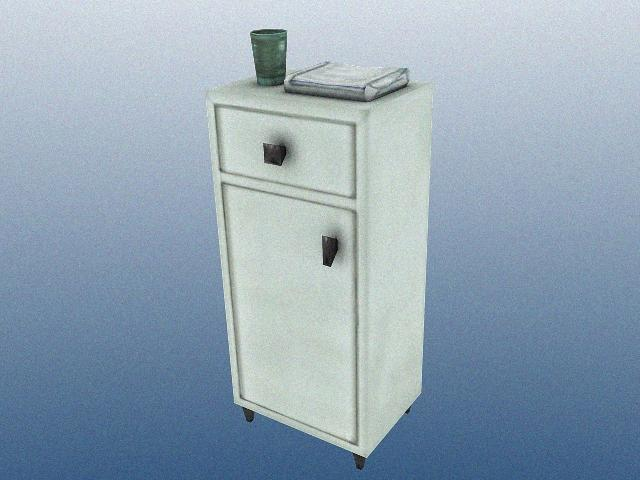cabinet_door: (230, 197, 358, 420), (217, 114, 357, 185)
handle: (314, 224, 346, 279), (254, 133, 294, 171)
